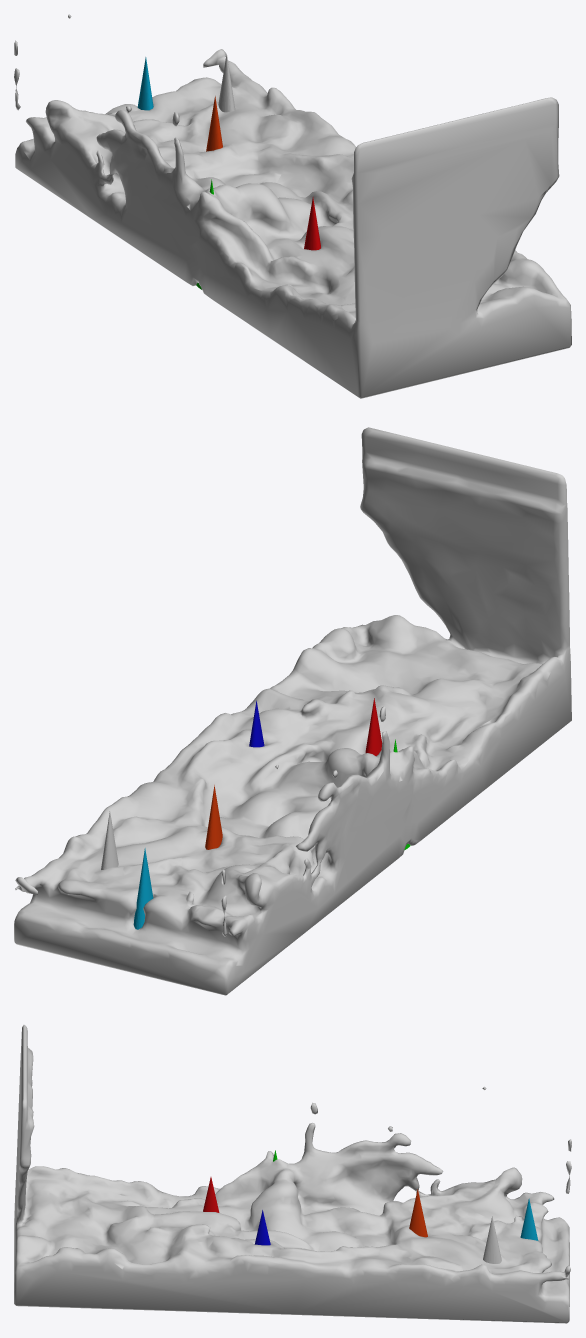
3 renders of one model, top to bottom at view 1: azimuth 30°, elevation 25°; view 2: azimuth 150°, elevation 25°; view 3: azimuth 270°, elevation 25°, orthographic. The views are drawn at different scales.
Parts seen in each view (by area): view 1: Liquid_Domain, 円錐, 円錐.001, 円錐.004, 円錐.005; view 2: Liquid_Domain, 円錐.005; view 3: Liquid_Domain, 円錐, 円錐.004, 円錐.005.
Part boxes in pixels (<box>): Liquid_Domain: <box>14,14,571,398</box>; 円錐: <box>218,53,235,112</box>; 円錐.001: <box>304,197,320,250</box>; 円錐.004: <box>206,96,222,151</box>; 円錐.005: <box>137,57,153,110</box>; Liquid_Domain: <box>14,427,571,995</box>; 円錐.005: <box>133,848,153,929</box>; Liquid_Domain: <box>14,1025,571,1323</box>; 円錐: <box>483,1216,501,1263</box>; 円錐.004: <box>409,1189,427,1237</box>; 円錐.005: <box>520,1198,538,1240</box>.
Bounding box in the file's own units: 129 × 158 × 363.
